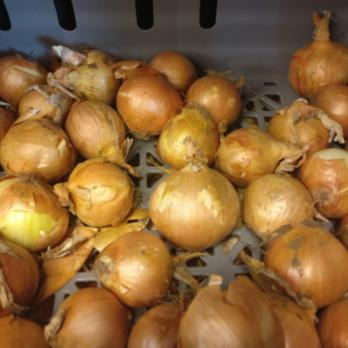Onion: (3, 42, 208, 348), (190, 112, 320, 348), (288, 19, 348, 348)
